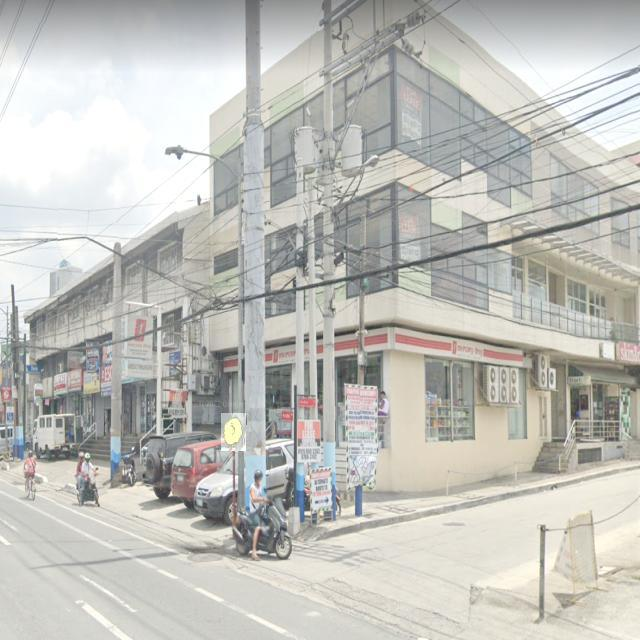bike lane: (221, 413, 246, 451)
